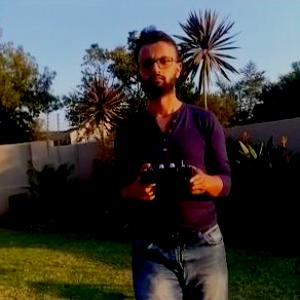follow: (110, 21, 236, 299)
